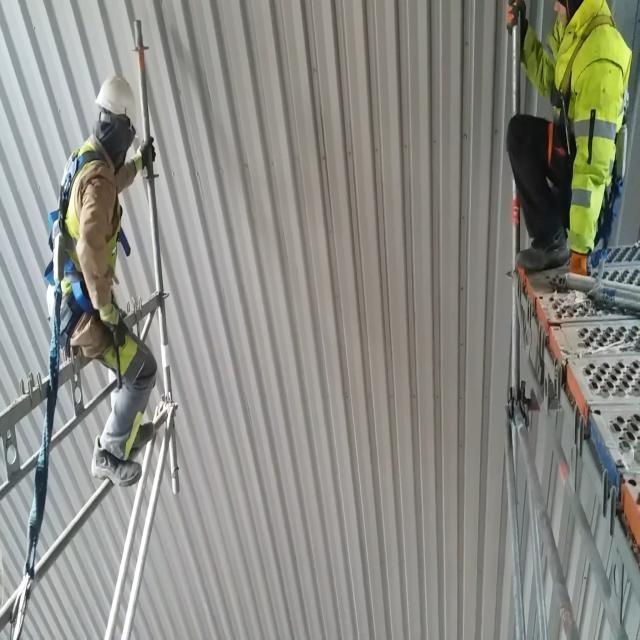Arnes_seguridad: (36, 140, 128, 345), (537, 9, 622, 145)
